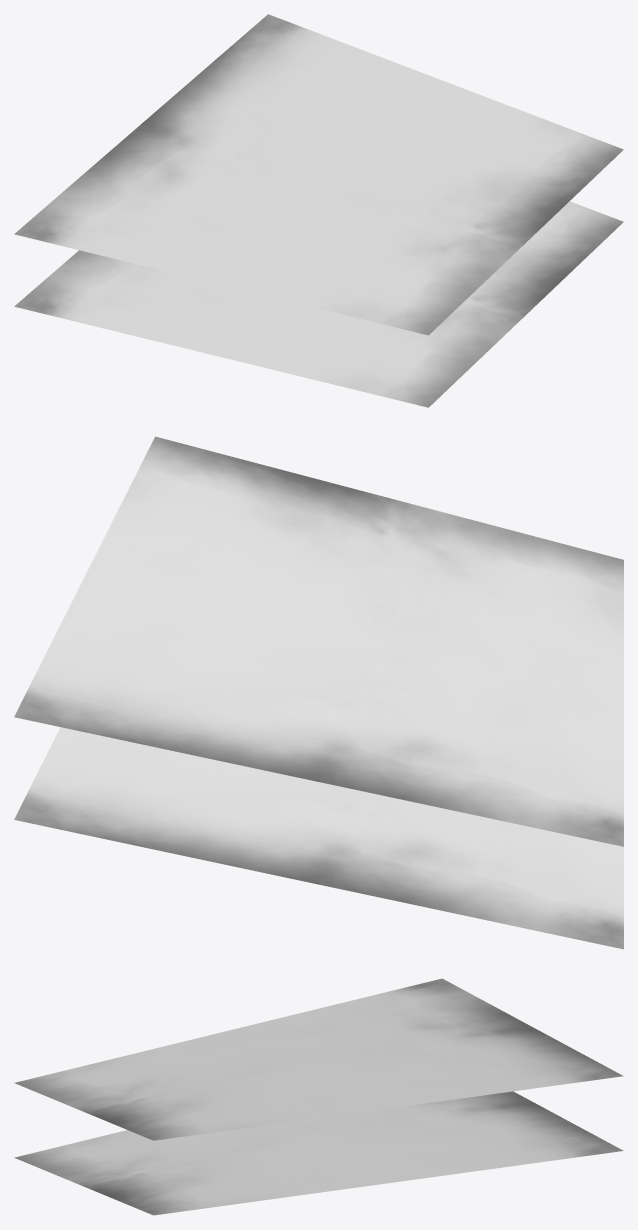
Rendered from CourseWinter_CurveFloor_7_10.fbx.
3 renders of one model, top to bottom at view 1: azimuth 30°, elevation 25°; view 2: azimuth 150°, elevation 25°; view 3: azimuth 270°, elevation 25°, orthographic. The views are drawn at different scales.
Parts seen in each view (by area): view 1: polySurface704; view 2: polySurface704; view 3: polySurface704.
Part boxes in pixels (<box>): polySurface704: <box>14,14,623,407</box>; polySurface704: <box>14,436,623,949</box>; polySurface704: <box>14,978,623,1215</box>.
Size of the model in its own units: 6.8 by 2 by 7.4.
1 material, 1 textured.
